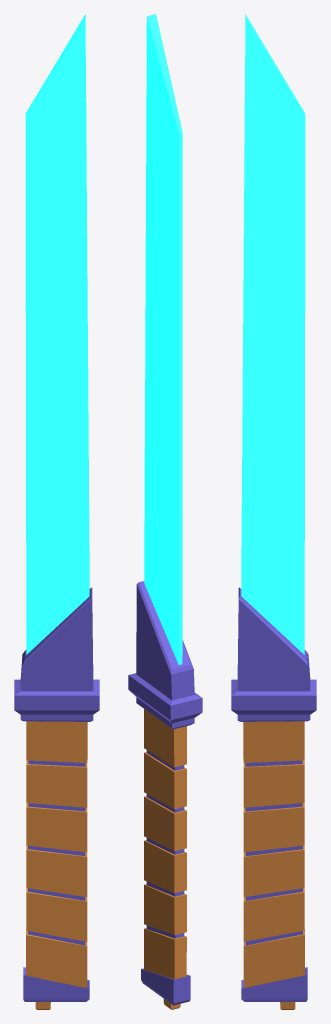
The model's file is DefaultSword.fbx.
3 renders of one model, left to right at view 1: azimuth 90°, elevation 25°; view 2: azimuth 210°, elevation 25°; view 3: azimuth 270°, elevation 25°, orthographic.
Parts seen in each view (by area): view 1: DefaultMelee; view 2: DefaultMelee; view 3: DefaultMelee.
Boxes of the visible parts, x1,y1,x2,y2 form: DefaultMelee: [14, 14, 99, 1009]; DefaultMelee: [128, 14, 202, 1009]; DefaultMelee: [231, 14, 316, 1009].
Bounding box in the file's own units: 5.48 × 160 × 12.51.
